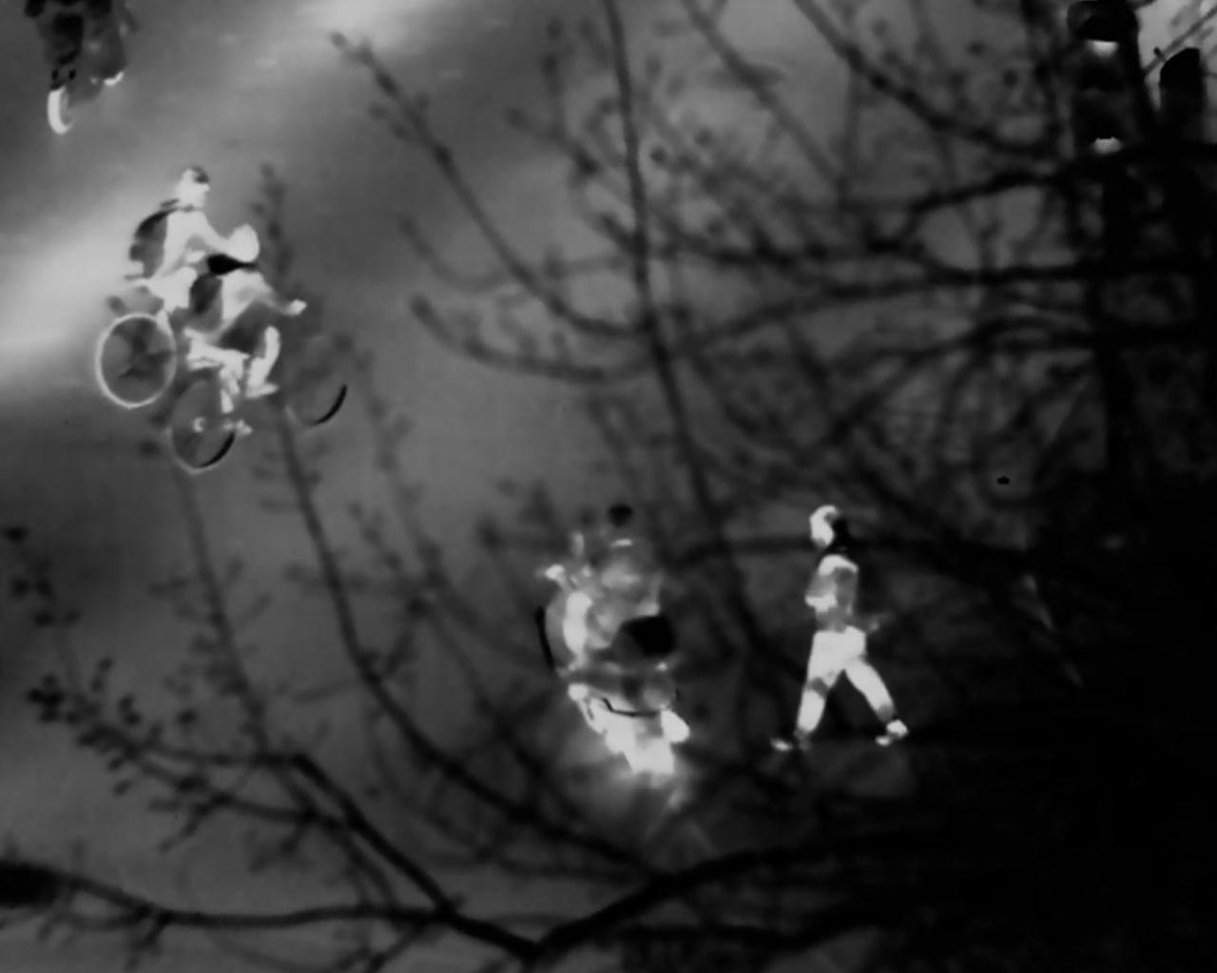person: (776, 506, 903, 763), (559, 502, 666, 737), (121, 166, 241, 360), (201, 225, 305, 410)
